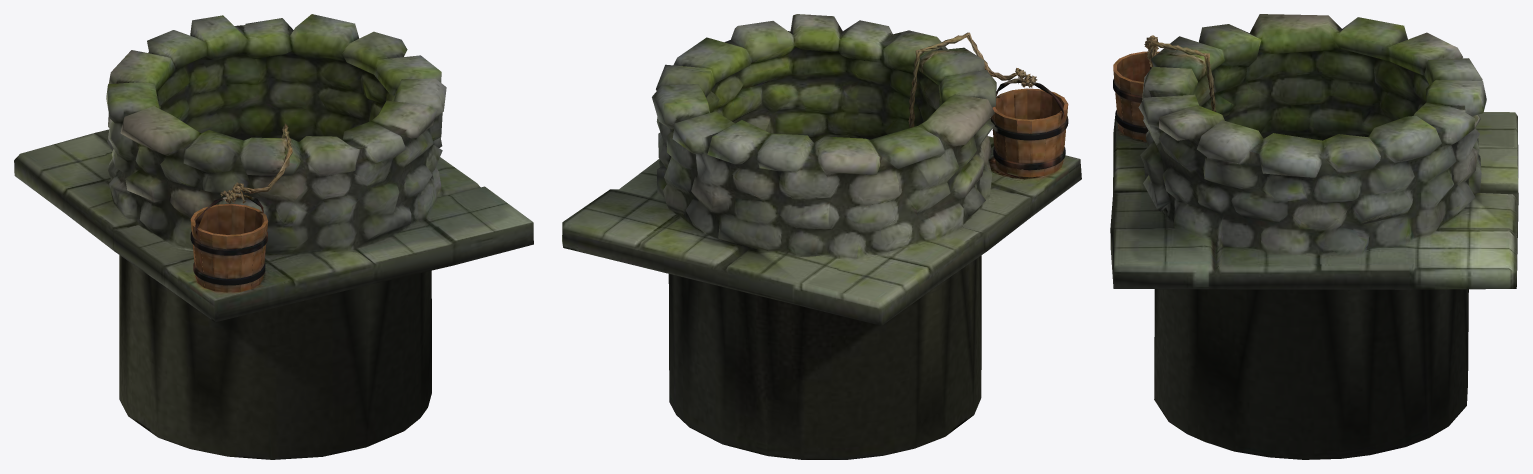
The model's file is well_hd.glb.
3 renders of one model, left to right at view 1: azimuth 30°, elevation 25°; view 2: azimuth 150°, elevation 25°; view 3: azimuth 270°, elevation 25°, orthographic.
Parts seen in each view (by area): view 1: well_lod0; view 2: well_lod0; view 3: well_lod0.
Boxes of the visible parts, <box> form: well_lod0: <box>14,14,533,459</box>; well_lod0: <box>562,14,1081,459</box>; well_lod0: <box>1110,14,1518,459</box>.
Bounding box in the file's own units: 1.88 × 1.75 × 2.02.
1 material, 1 textured.
